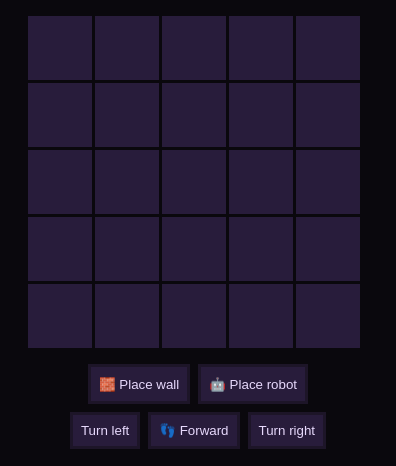
Test case: Board component (Board.tsx) › Place robot mode › renders a directions button and a cancel button
Step 1. Click the button "🤖 Place robot" → (253, 384), box [198,364,308,404]
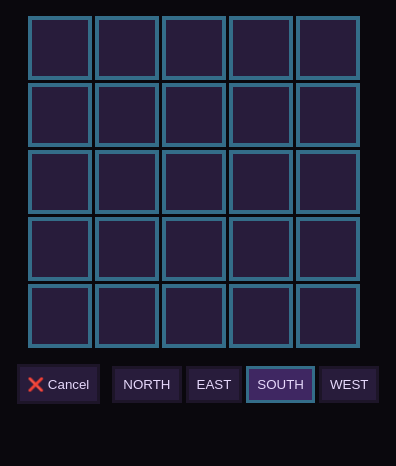
Expected: the button "❌ Cancel" is shown, [16,364,100,404]
Expected: the button "NORTH" is shown, [112,366,182,403]
Expected: the button "EAST" is shown, [186,366,242,403]
